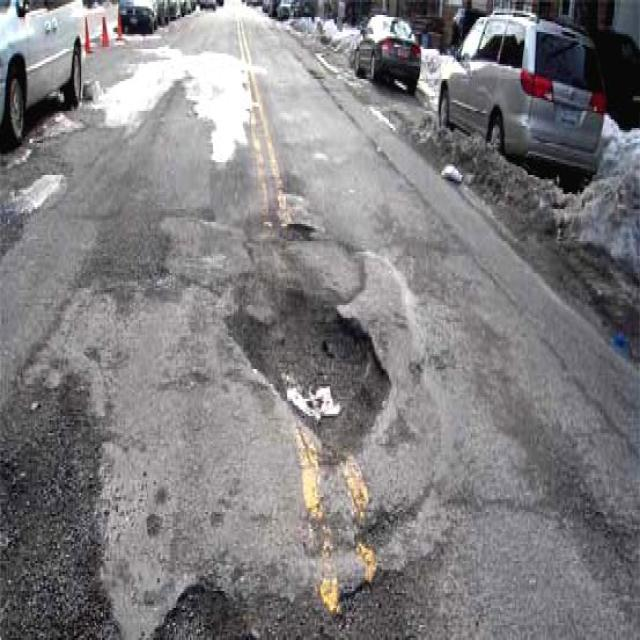pothole: (230, 288, 395, 465), (287, 214, 315, 244)
